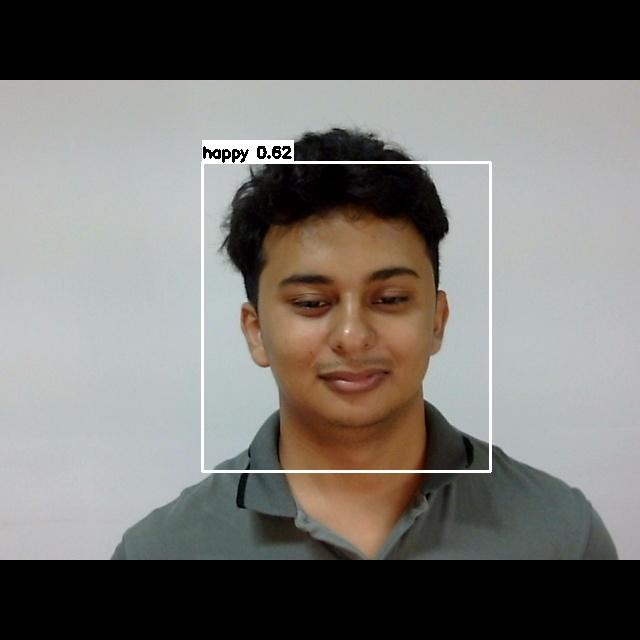Happy: (234, 231, 452, 414)
